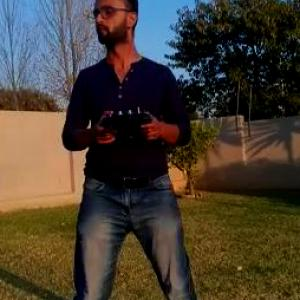follow: (51, 0, 203, 299)
